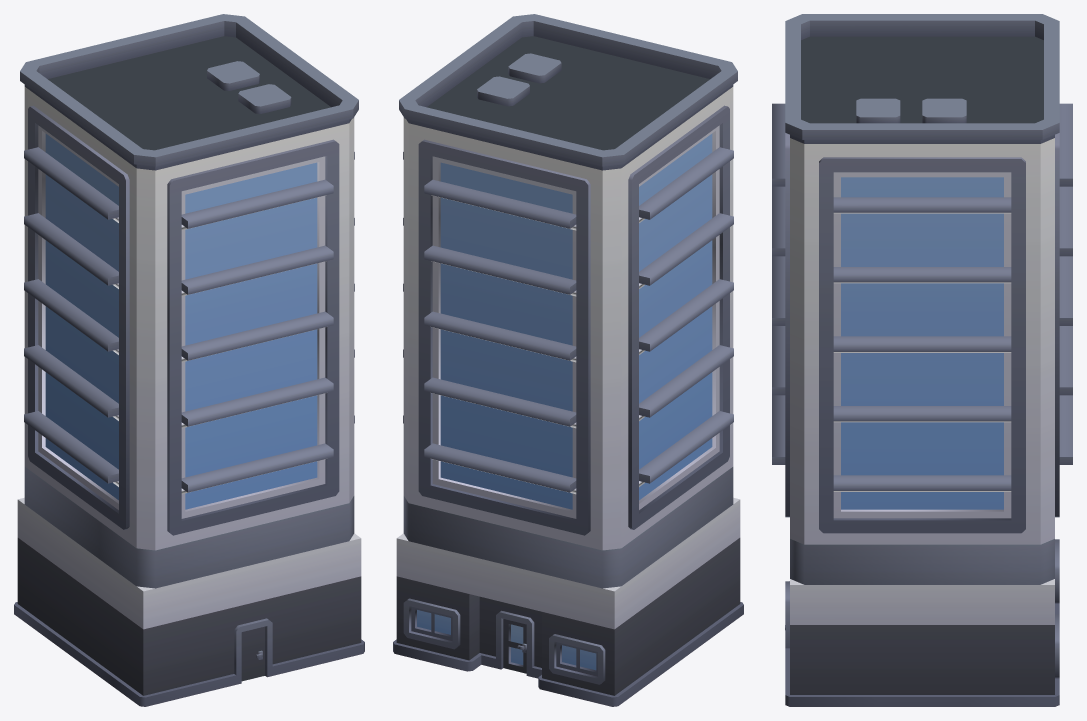
Rendered from k-city-kit-commercial-building-skyscraper-a.glb.
3 renders of one model, left to right at view 1: azimuth 30°, elevation 25°; view 2: azimuth 150°, elevation 25°; view 3: azimuth 270°, elevation 25°, orthographic. The views are drawn at different scales.
Visible parts, largest first — view 1: building-skyscraper-a; view 2: building-skyscraper-a; view 3: building-skyscraper-a.
Boxes of the visible parts, <box> form: building-skyscraper-a: <box>14,14,364,706</box>; building-skyscraper-a: <box>393,14,743,706</box>; building-skyscraper-a: <box>772,14,1072,706</box>.
Size of the model in its own units: 1.36 by 2.88 by 1.36.
Materials: 1 (1 with a texture image).
